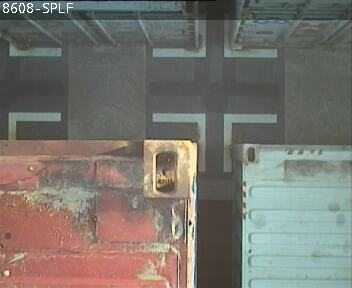groundmarker_1: (152, 112, 276, 172), (153, 13, 277, 59)
